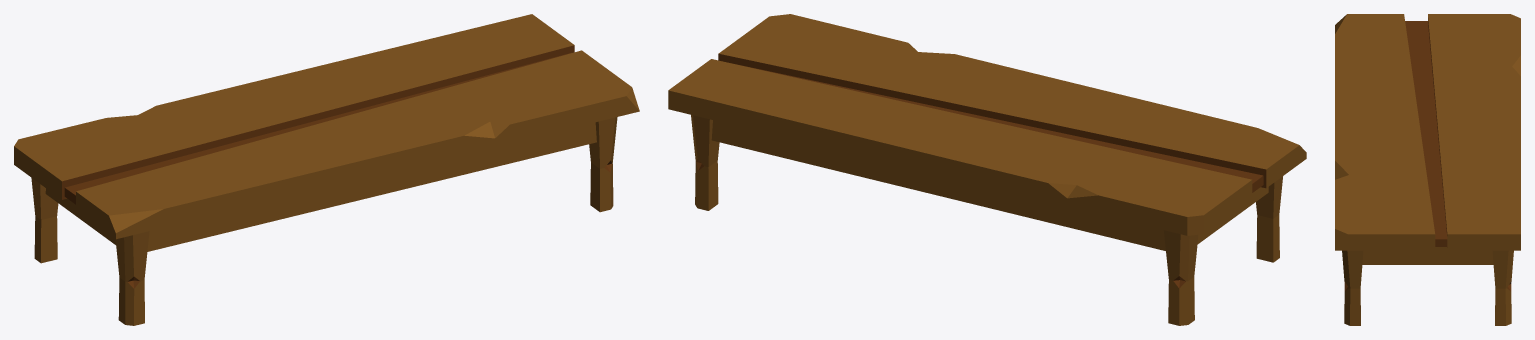
File: SM_Table.fbx
The picture shows the model from 3 angles, left to right: view 1: azimuth 30°, elevation 25°; view 2: azimuth 150°, elevation 25°; view 3: azimuth 270°, elevation 25°; orthographic projection. The views are drawn at different scales.
Parts seen in each view (by area): view 1: SM_Table; view 2: SM_Table; view 3: SM_Table.
Boxes of the visible parts, x1,y1,x2,y2 form: SM_Table: [14, 14, 639, 325]; SM_Table: [668, 14, 1306, 325]; SM_Table: [1335, 14, 1520, 325].
Bounding box in the file's own units: 268 × 56.2 × 95.51.
